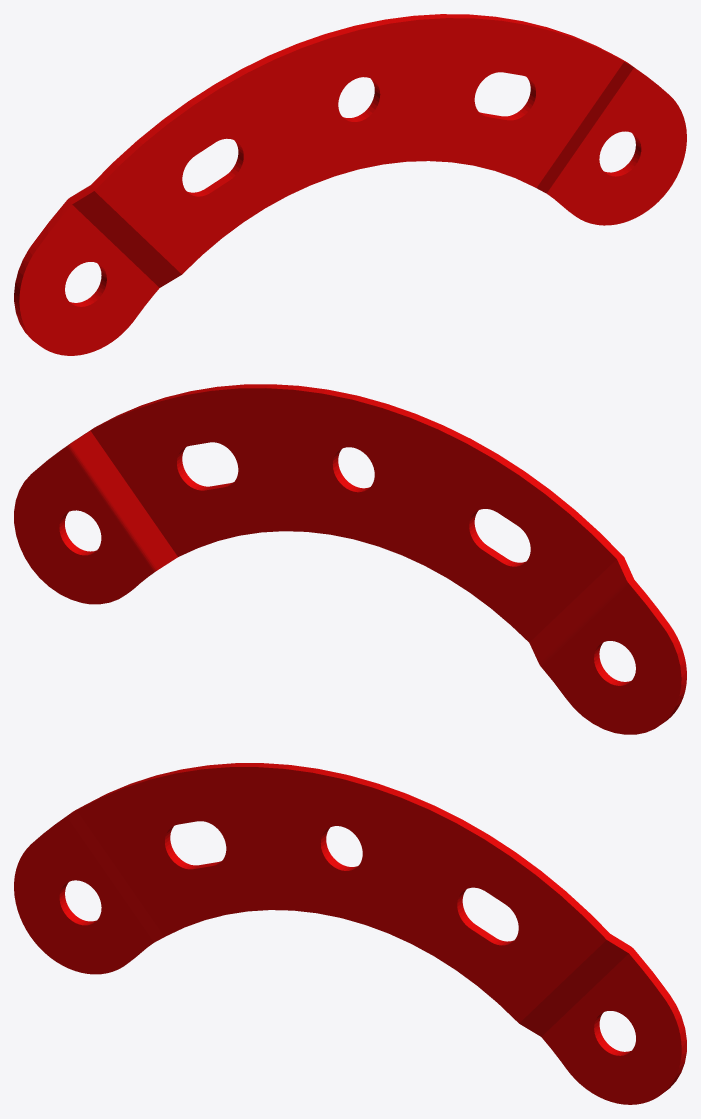
Rendered from ThanhCong_KimLoai_Do.glb.
3 renders of one model, top to bottom at view 1: azimuth 30°, elevation 25°; view 2: azimuth 150°, elevation 25°; view 3: azimuth 330°, elevation 25°, orthographic.
Parts seen in each view (by area): view 1: defaultobject; view 2: defaultobject; view 3: defaultobject.
Part boxes in pixels (left/top/right/bottom): defaultobject: left=14, top=14, right=686, bottom=355; defaultobject: left=14, top=384, right=686, bottom=734; defaultobject: left=14, top=763, right=686, bottom=1104.
Size of the model in its own units: 159 by 59.76 by 4.73.
